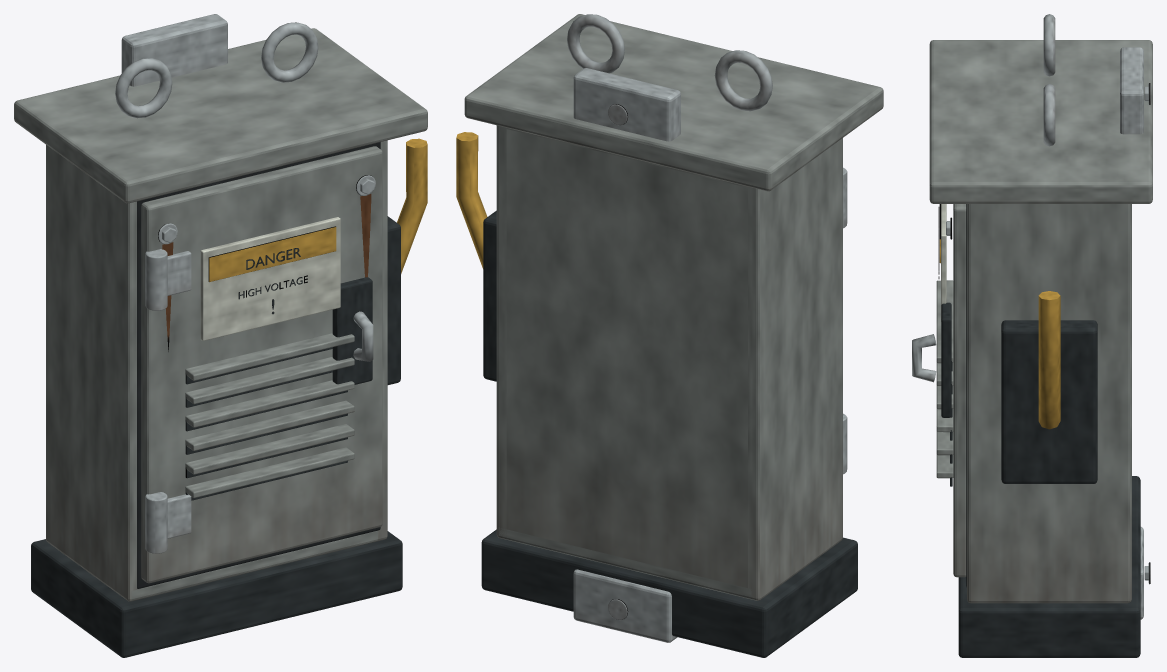
Rendered from GR_Disconnect_01.glb.
3 views of the same model, side by side, from view 1: azimuth 30°, elevation 25°; view 2: azimuth 150°, elevation 25°; view 3: azimuth 270°, elevation 25° (orthographic). The views are drawn at different scales.
Parts seen in each view (by area): view 1: Static; view 2: Static; view 3: Static.
Part boxes in pixels (x1,y1,x2,y2): Static: (14, 14, 427, 657); Static: (456, 14, 883, 657); Static: (912, 14, 1152, 657).
Size of the model in its own units: 0.596 by 0.878 by 0.3506.
1 material, 1 textured.
